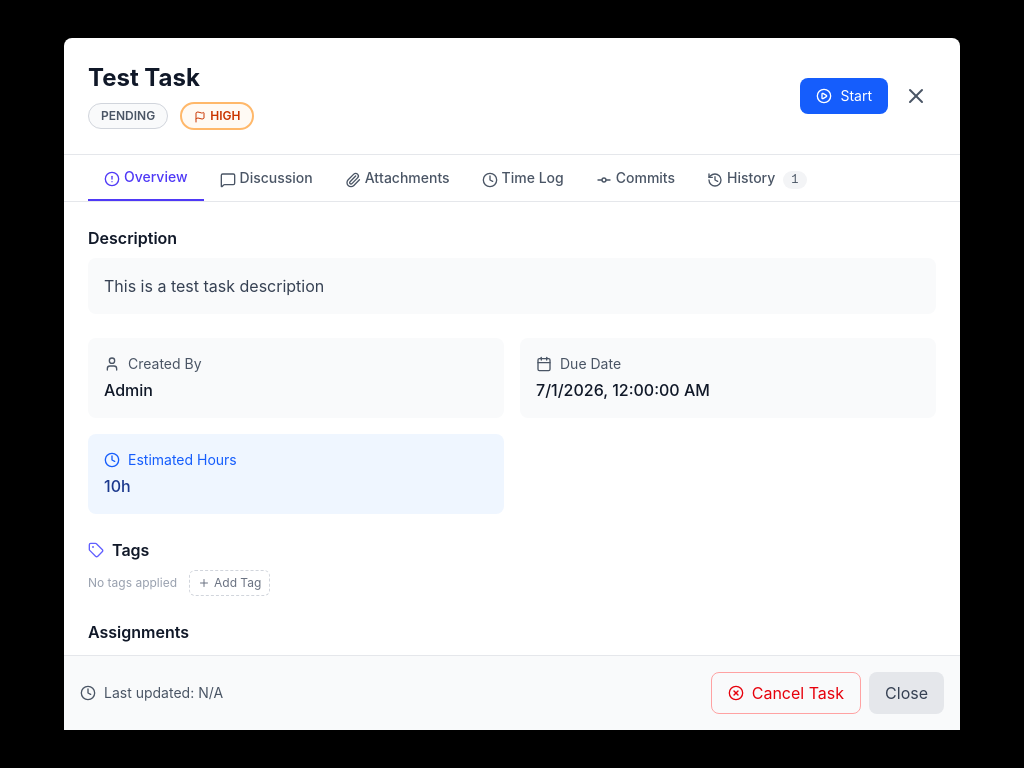
Test: TaskDetailsModal extended coverage › shows History tab with audit logs
Click the button "History1": click(757, 178) top-left (691, 155), bottom-right (822, 201)
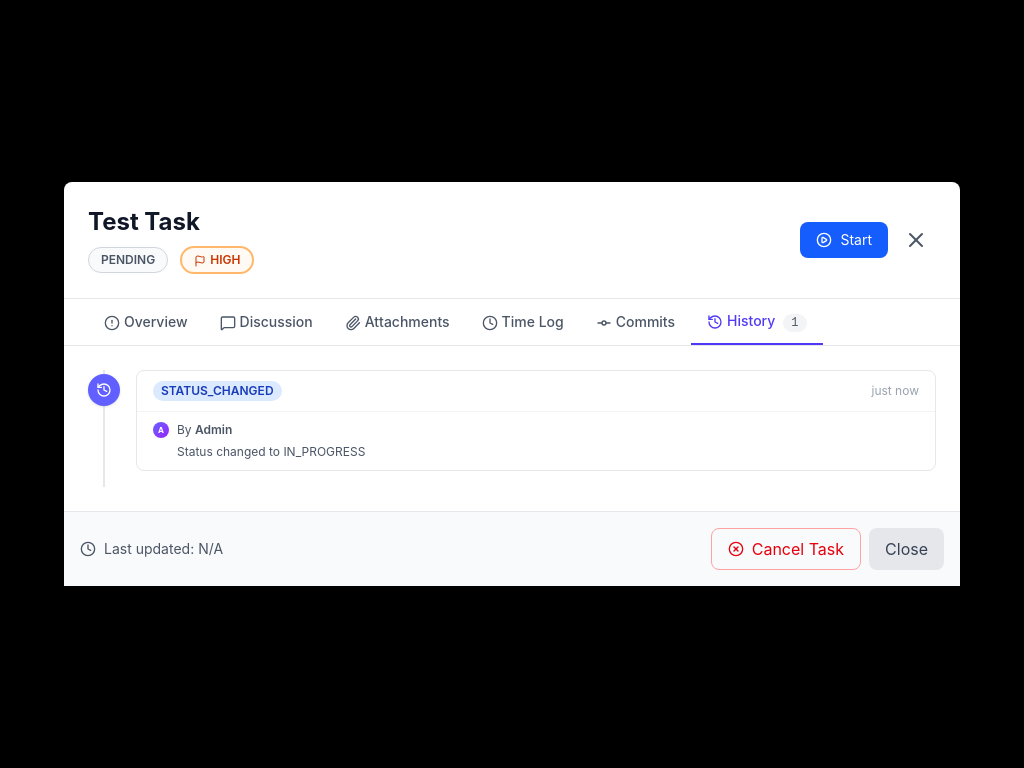
Check: the text "STATUS_CHANGED" is shown, box top-left (153, 381), bottom-right (282, 401)
